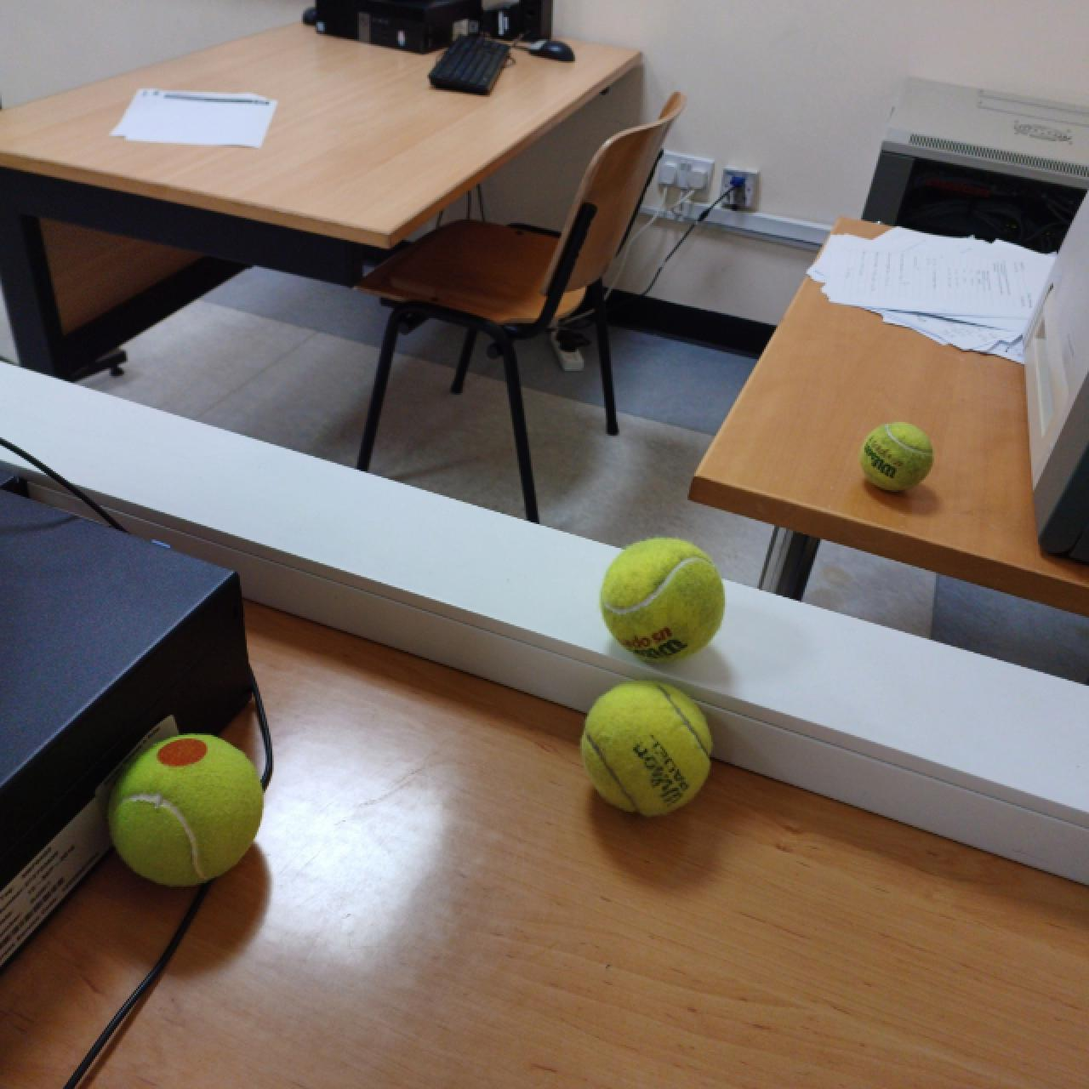tennis-ball: (102, 730, 268, 890), (578, 676, 721, 818), (599, 537, 730, 664), (857, 419, 936, 492)
